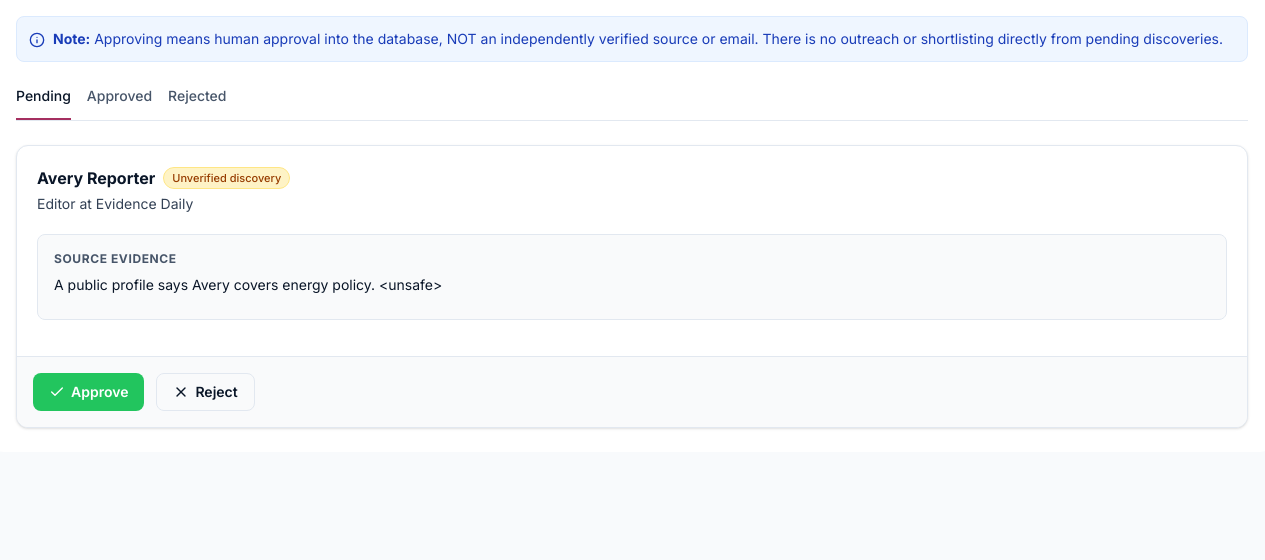
Test: MediaDiscoveryReview › shows a rejection conflict and keeps the draft card
The width and height of the screenshot is (1265, 560).
Check: the element with test id "card-discovery-42" is shown, box [16,145,1248,428]
Step 1. Click the button with test id "button-reject-42" → click(206, 392), box [156,373,255,411]
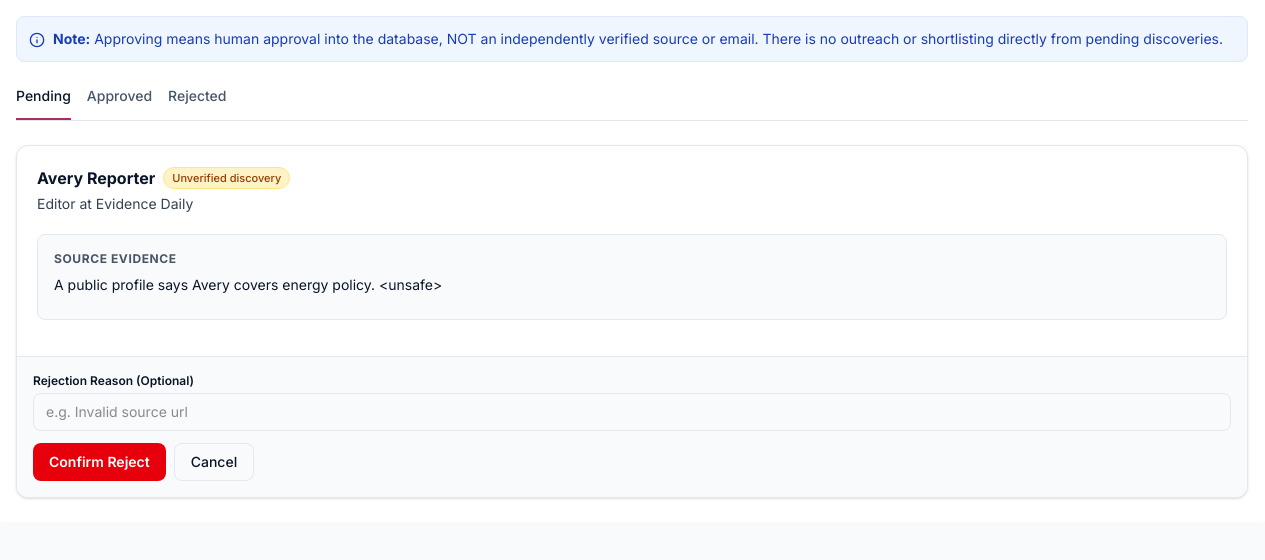
Step 2. Click the button with test id "button-confirm-reject-42" → click(99, 462), box [33,443,166,481]
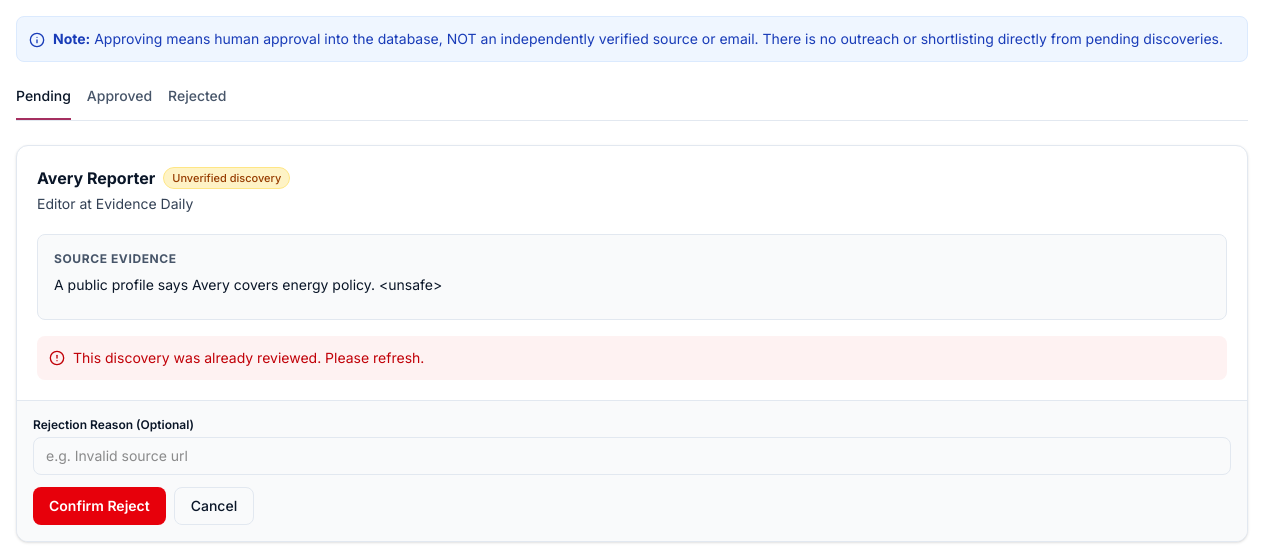
Check: the text "This discovery was already reviewed. Please refresh." is shown, box [37,336,1227,380]
